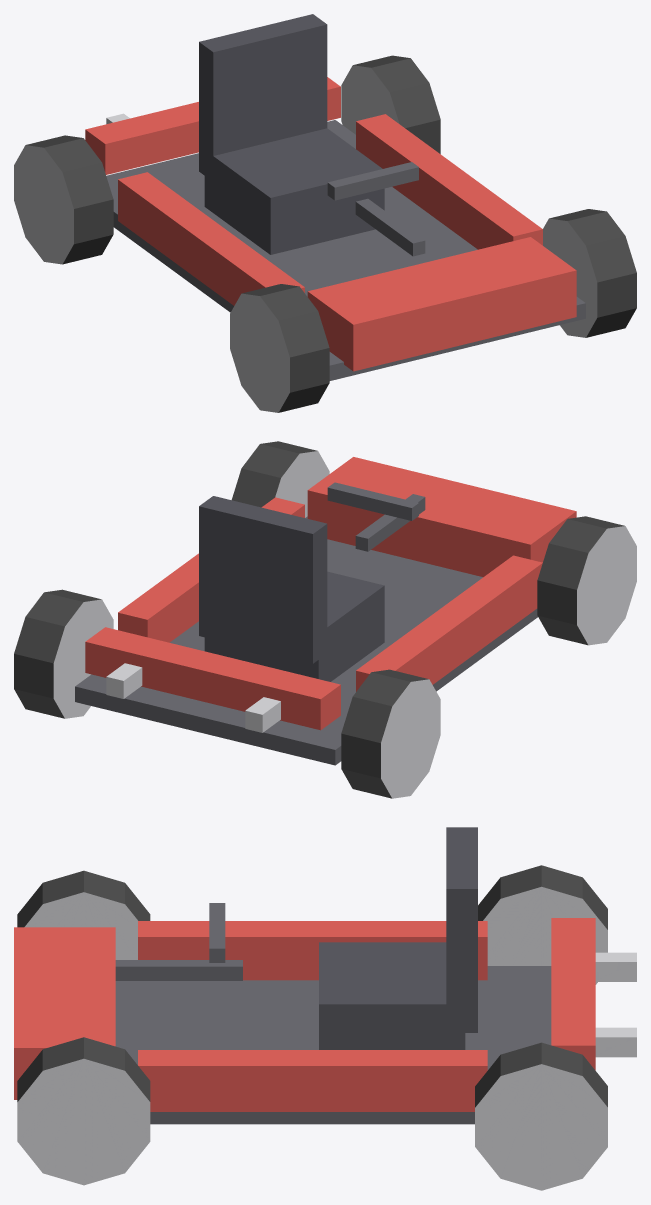
Rendered from kart.glb.
The picture shows the model from 3 angles, top to bottom: view 1: azimuth 30°, elevation 25°; view 2: azimuth 150°, elevation 25°; view 3: azimuth 270°, elevation 25°; orthographic projection. The views are drawn at different scales.
Parts seen in each view (by area): view 1: Body, WheelFR, WheelRR, WheelFL, WheelRL; view 2: Body, WheelRR, WheelFR, WheelRL, WheelFL; view 3: Body, WheelFL, WheelRL, WheelRR, WheelFR.
Part boxes in pixels (box(x1,y1,x2,y2)): Body: box(85, 14, 585, 380); WheelFR: box(230, 284, 329, 412); WheelRR: box(14, 135, 113, 264); WheelFL: box(543, 209, 636, 337); WheelRL: box(341, 55, 440, 153); Body: box(75, 457, 576, 765); WheelRR: box(341, 669, 440, 798); WheelFR: box(537, 516, 636, 645); WheelRL: box(14, 589, 113, 718); WheelFL: box(231, 441, 329, 517); Body: box(14, 827, 636, 1124); WheelFL: box(17, 1037, 150, 1185); WheelRL: box(475, 1042, 607, 1190); WheelRR: box(478, 865, 607, 984); WheelFR: box(17, 870, 150, 959).
Size of the model in its own units: 1.48 by 0.81 by 1.96.
